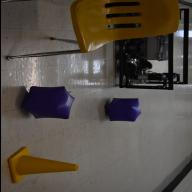cone: (8, 146, 78, 184)
cube: (22, 86, 74, 120), (105, 98, 141, 122)
